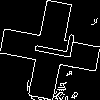L: (25, 25, 75, 61)
